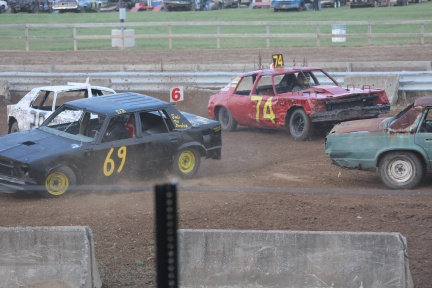car: (2, 93, 226, 195), (204, 67, 388, 144), (322, 91, 432, 188)
